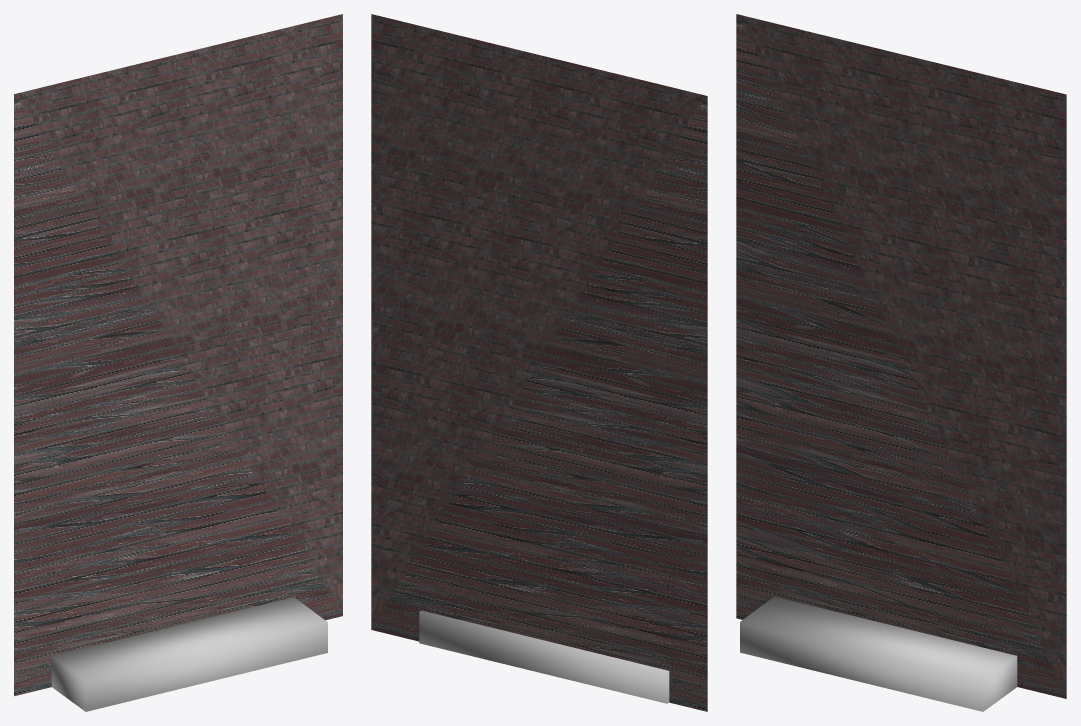
Rendered from Wall_A_Brick_Door_D_2x_COL.FBX.
3 views of the same model, side by side, from view 1: azimuth 30°, elevation 25°; view 2: azimuth 150°, elevation 25°; view 3: azimuth 330°, elevation 25° (orthographic). The views are drawn at different scales.
Parts seen in each view (by area): view 1: Wall_A_Brick_Door_D_2x_COL; view 2: Wall_A_Brick_Door_D_2x_COL; view 3: Wall_A_Brick_Door_D_2x_COL.
Part boxes in pixels (x1,y1,x2,y2): Wall_A_Brick_Door_D_2x_COL: (14, 14, 342, 711); Wall_A_Brick_Door_D_2x_COL: (371, 14, 707, 711); Wall_A_Brick_Door_D_2x_COL: (736, 14, 1066, 711).
Size of the model in its own units: 200 by 350 by 37.84.
